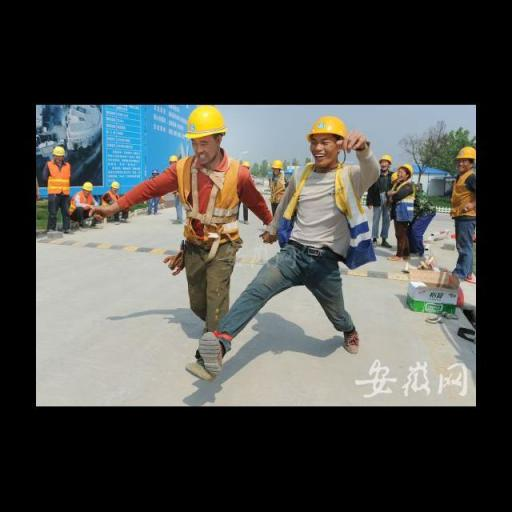Person: (125, 98, 257, 400), (259, 114, 382, 372), (441, 128, 483, 284), (392, 148, 430, 258), (40, 135, 80, 236), (70, 174, 100, 228), (105, 177, 132, 221)
boots: (193, 326, 230, 386), (332, 318, 372, 361), (186, 346, 220, 396)
helmet: (301, 112, 356, 150), (183, 106, 228, 150), (391, 151, 418, 186), (74, 175, 100, 202), (452, 142, 479, 168), (265, 148, 289, 176), (374, 146, 398, 173), (47, 140, 73, 164), (233, 155, 255, 179), (102, 174, 122, 193), (165, 150, 182, 170)
vest: (270, 156, 388, 274), (169, 148, 246, 255), (445, 166, 479, 237), (388, 180, 421, 234), (264, 167, 301, 210), (46, 156, 78, 202), (63, 182, 97, 222), (101, 188, 126, 212)
